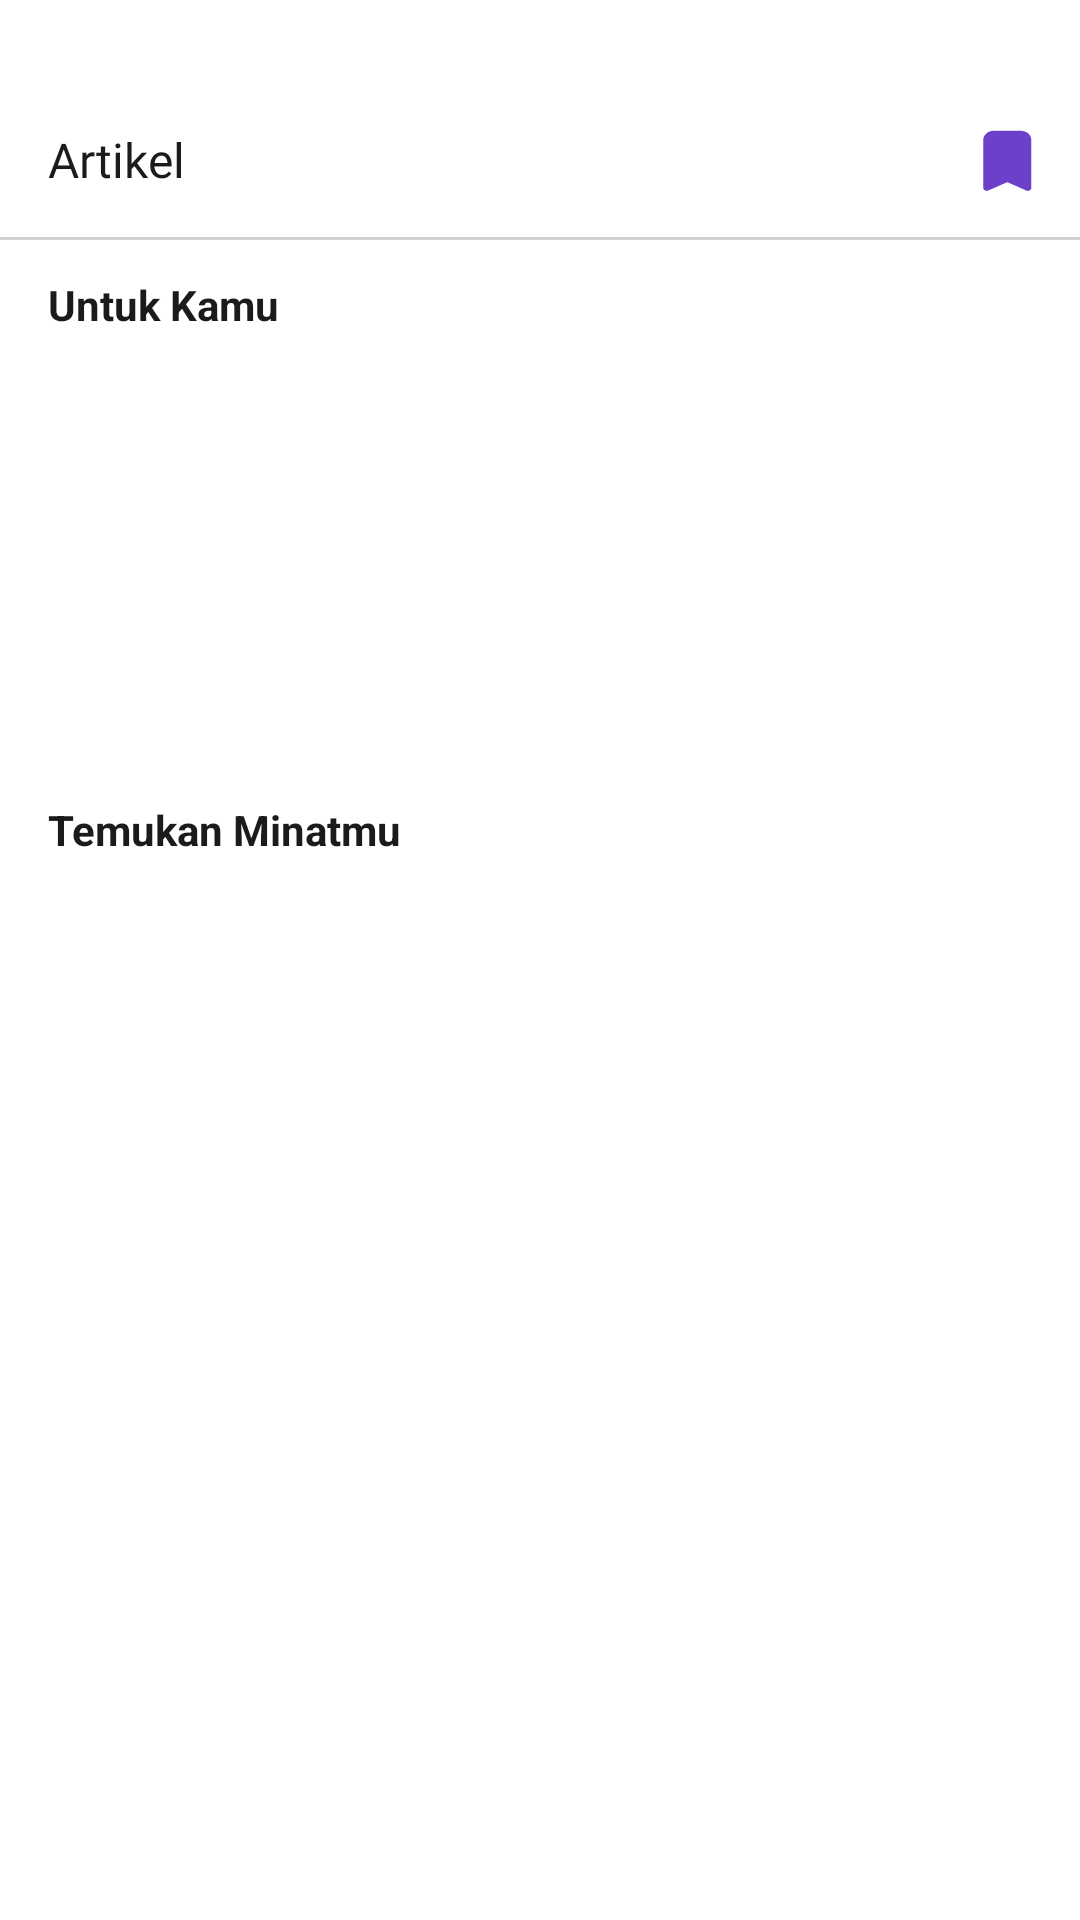

Point at icon controls on the screen. Image size 1080*1920, points as (x,y).
bookmarksarticle: (1007,160)
